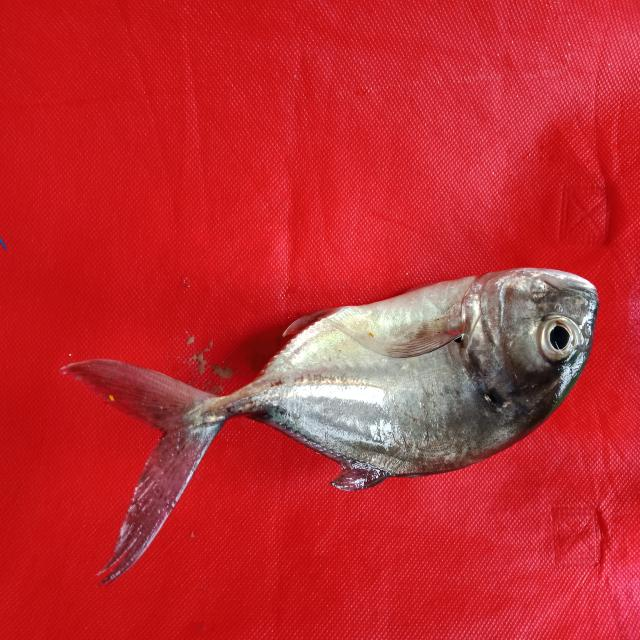ikan: (64, 254, 608, 598)
